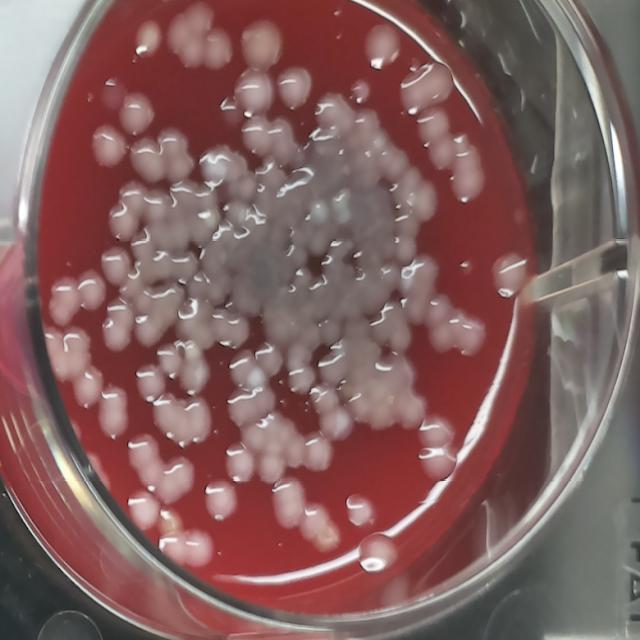Pseudoalteromonas: (233, 15, 281, 78)
Staphylococcus: (198, 152, 230, 188), (305, 195, 331, 228), (332, 204, 355, 230), (330, 186, 350, 213)
